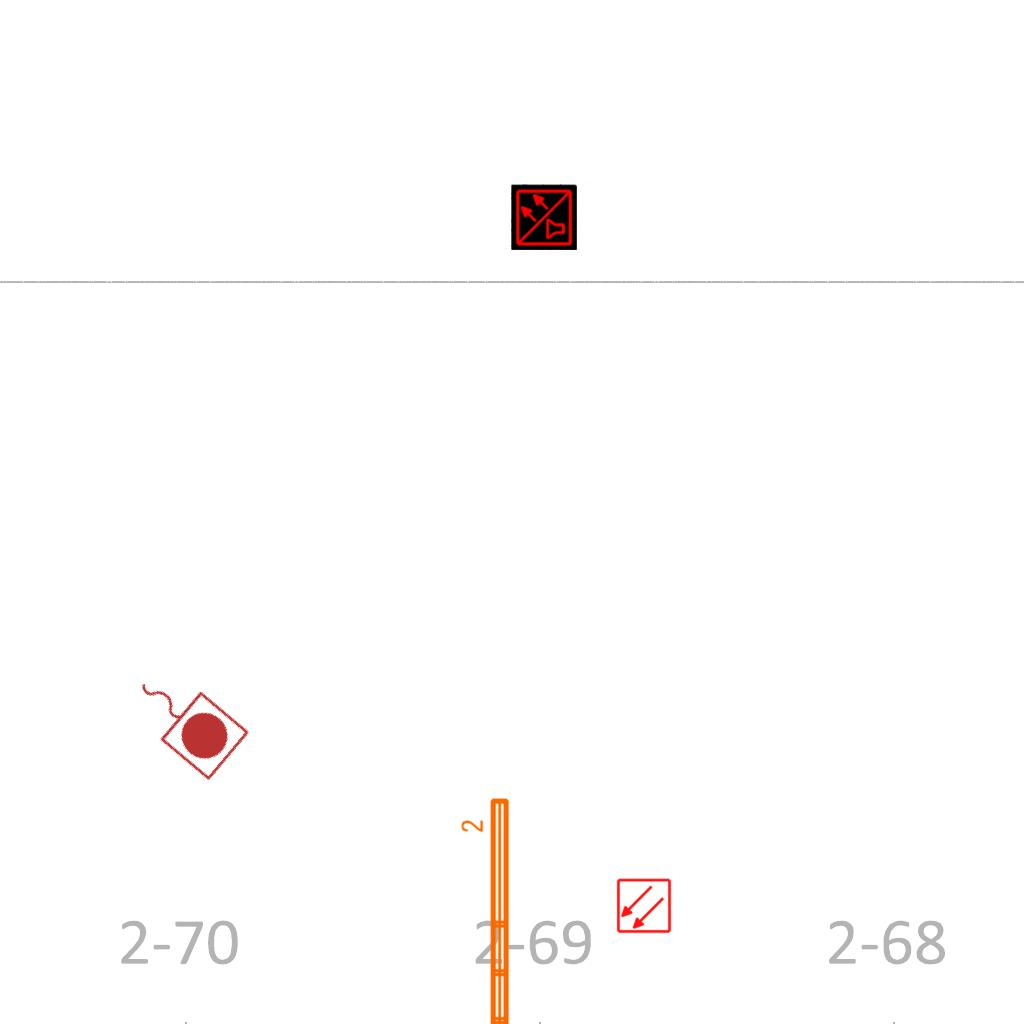Ambulanz_Pendelleuchte_LED: (459, 794, 515, 1024)
OKW_Multisensormelder_(Kombination_optischer_Rauch-Kahlenmonoxid_Waerme-Melder): (511, 184, 577, 250)
RMO_Rauchmelder_optischer: (616, 878, 672, 934)
Zugtaster: (116, 652, 256, 786)
